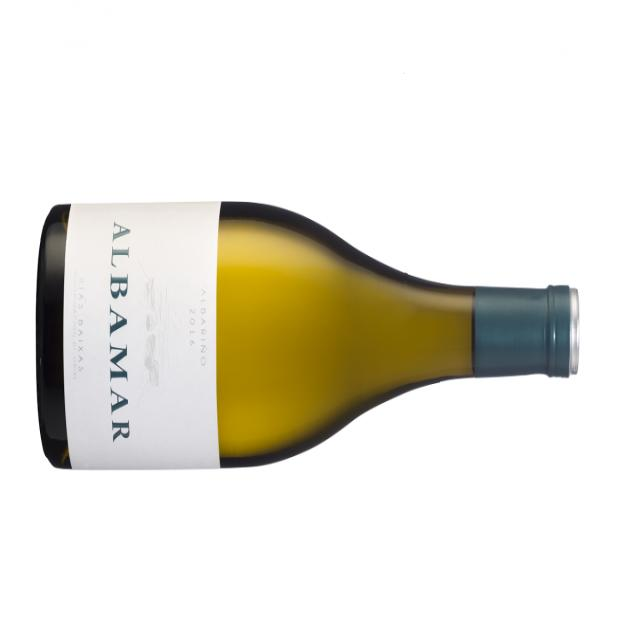Vidrio: (31, 175, 583, 488)
